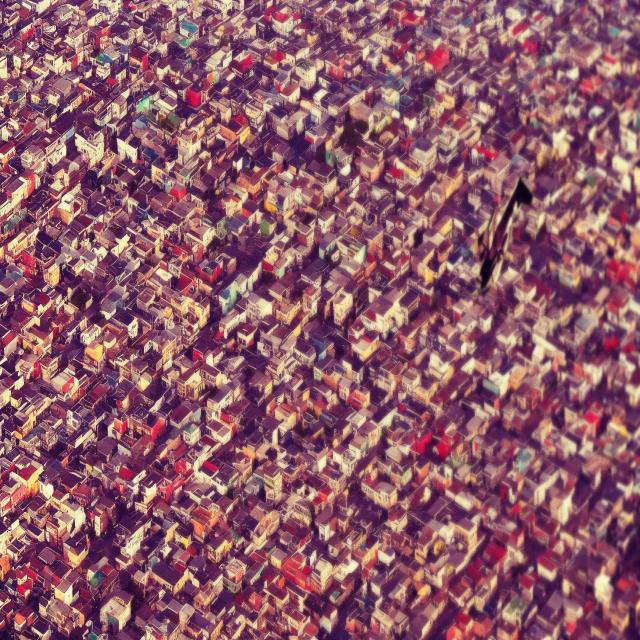airplane: (473, 175, 533, 294)
